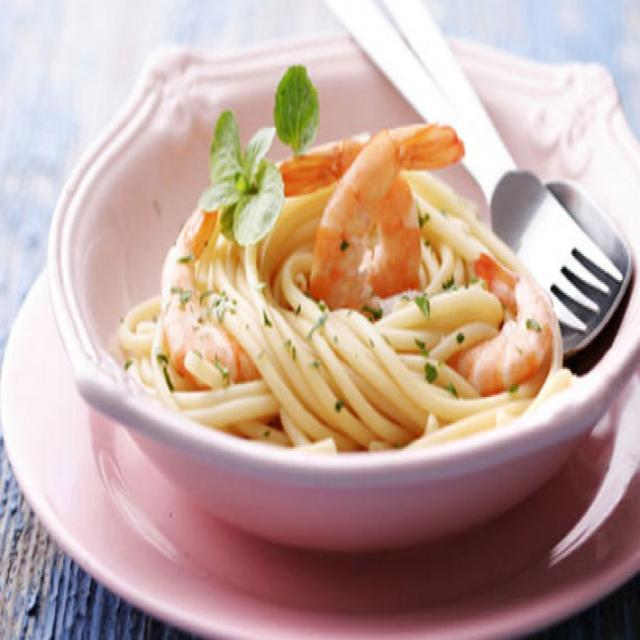Oil pasta: (153, 70, 577, 488)
